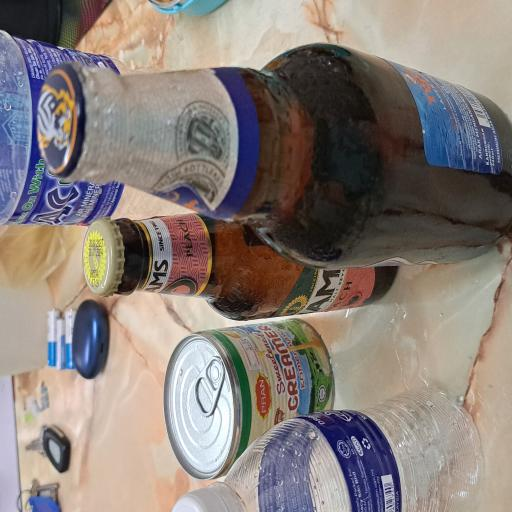can: (24, 219, 143, 446)
glass bottle: (183, 50, 350, 512), (145, 109, 230, 512)
plastic bottle: (216, 0, 361, 222), (0, 292, 97, 512)
plastic bottle cap: (0, 228, 17, 326)
pop tab: (72, 257, 118, 299)
